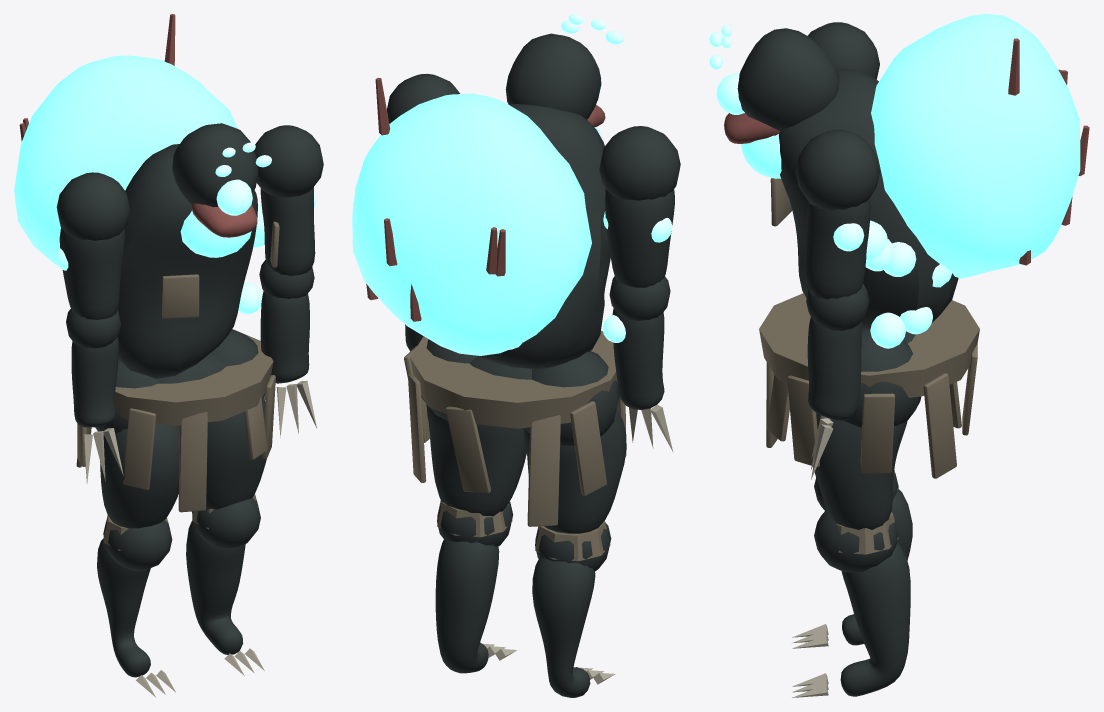
The model's file is spitter.glb.
3 views of the same model, side by side, from view 1: azimuth 30°, elevation 25°; view 2: azimuth 150°, elevation 25°; view 3: azimuth 270°, elevation 25° (orthographic). The views are drawn at different scales.
Parts seen in each view (by area): view 1: sac_mesh, torso_mesh, hips_mesh, head_mesh, arm_r_mesh, knee_l_mesh, arm_l_mesh, knee_r_mesh, leg_r_mesh, elbow_l_mesh, elbow_r_mesh, leg_l_mesh; view 2: sac_mesh, hips_mesh, torso_mesh, arm_r_mesh, knee_l_mesh, knee_r_mesh, leg_r_mesh, head_mesh, elbow_r_mesh, leg_l_mesh, arm_l_mesh; view 3: sac_mesh, hips_mesh, torso_mesh, head_mesh, knee_l_mesh, arm_l_mesh, leg_l_mesh, elbow_l_mesh, arm_r_mesh, knee_r_mesh.
Boxes of the visible parts, bbox=[...] form: sac_mesh: bbox=[14, 14, 237, 265]; torso_mesh: bbox=[117, 144, 279, 378]; hips_mesh: bbox=[76, 329, 275, 512]; head_mesh: bbox=[172, 123, 271, 257]; arm_r_mesh: bbox=[55, 172, 130, 319]; knee_l_mesh: bbox=[186, 494, 264, 675]; arm_l_mesh: bbox=[254, 125, 323, 275]; knee_r_mesh: bbox=[97, 515, 175, 697]; leg_r_mesh: bbox=[95, 360, 179, 528]; elbow_l_mesh: bbox=[259, 259, 316, 437]; elbow_r_mesh: bbox=[66, 309, 123, 483]; leg_l_mesh: bbox=[206, 329, 266, 509]; sac_mesh: bbox=[352, 77, 591, 355]; hips_mesh: bbox=[404, 330, 626, 526]; torso_mesh: bbox=[475, 104, 625, 369]; arm_r_mesh: bbox=[599, 126, 680, 287]; knee_l_mesh: bbox=[435, 500, 517, 673]; knee_r_mesh: bbox=[532, 521, 615, 697]; leg_r_mesh: bbox=[524, 351, 626, 533]; head_mesh: bbox=[505, 14, 623, 136]; elbow_r_mesh: bbox=[609, 276, 673, 452]; leg_l_mesh: bbox=[421, 339, 526, 516]; arm_l_mesh: bbox=[387, 73, 459, 123]; sac_mesh: bbox=[871, 14, 1089, 278]; hips_mesh: bbox=[759, 293, 979, 478]; torso_mesh: bbox=[770, 68, 958, 348]; head_mesh: bbox=[709, 25, 839, 178]; knee_l_mesh: bbox=[792, 509, 910, 697]; arm_l_mesh: bbox=[795, 129, 879, 299]; leg_l_mesh: bbox=[813, 328, 921, 529]; elbow_l_mesh: bbox=[806, 283, 869, 479]; arm_r_mesh: bbox=[808, 22, 879, 79]; knee_r_mesh: bbox=[792, 470, 912, 648].
Bounding box in the file's own units: 0.6385 × 1.38 × 0.7188.
